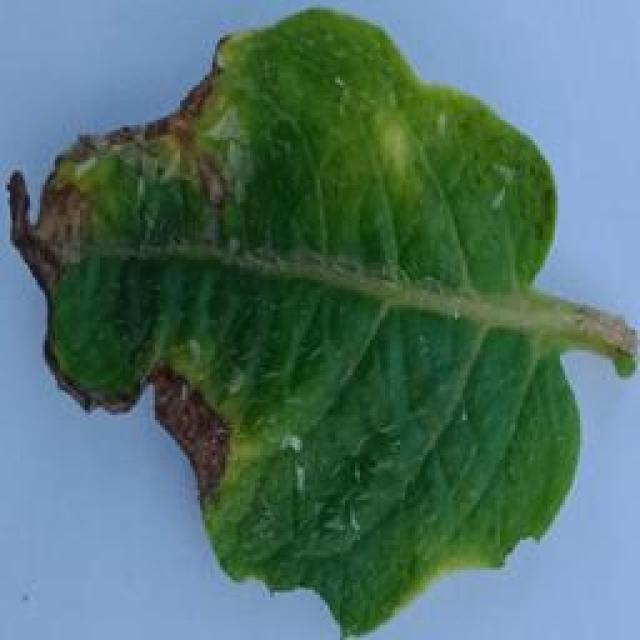Potato_Late_Blight: (10, 12, 576, 611)
